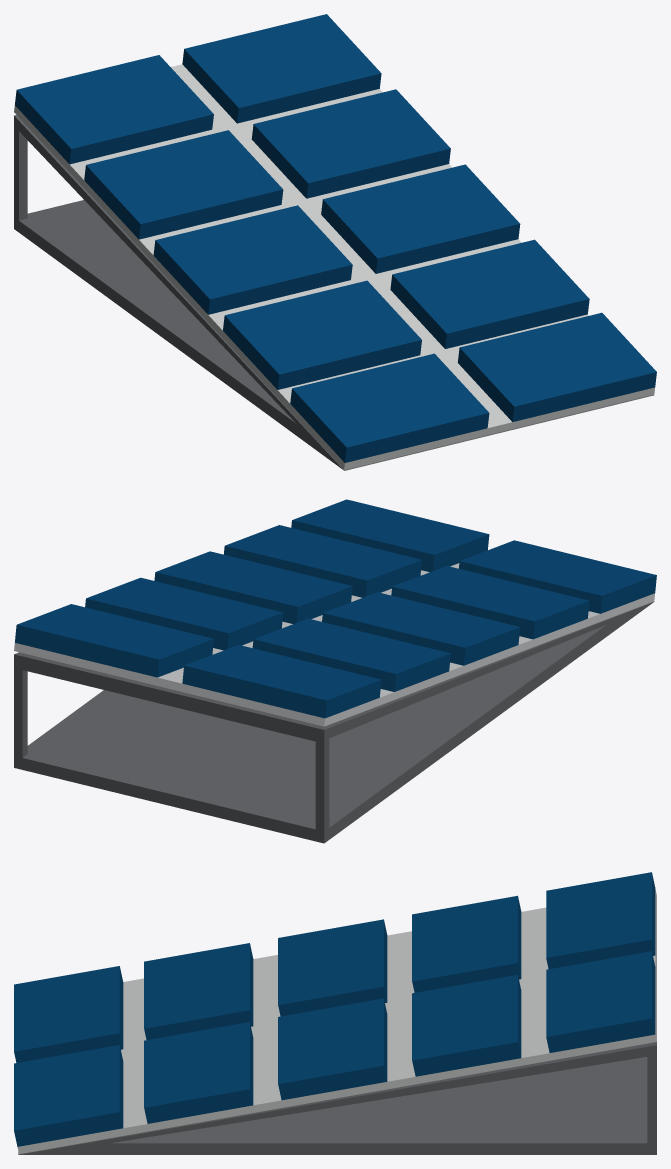
The model's file is solar-panel-5x2-small.glb.
3 renders of one model, top to bottom at view 1: azimuth 30°, elevation 25°; view 2: azimuth 150°, elevation 25°; view 3: azimuth 270°, elevation 25°, orthographic. The views are drawn at different scales.
Parts seen in each view (by area): view 1: Mesh_Mesh_head_geo.001_lambert2SG.001; view 2: Mesh_Mesh_head_geo.001_lambert2SG.001; view 3: Mesh_Mesh_head_geo.001_lambert2SG.001.
Boxes of the visible parts, x1,y1,x2,y2 form: Mesh_Mesh_head_geo.001_lambert2SG.001: (14,14,656,470); Mesh_Mesh_head_geo.001_lambert2SG.001: (14,499,656,843); Mesh_Mesh_head_geo.001_lambert2SG.001: (14,872,656,1154).
Bounding box in the file's own units: 57.19 × 24.88 × 106.
